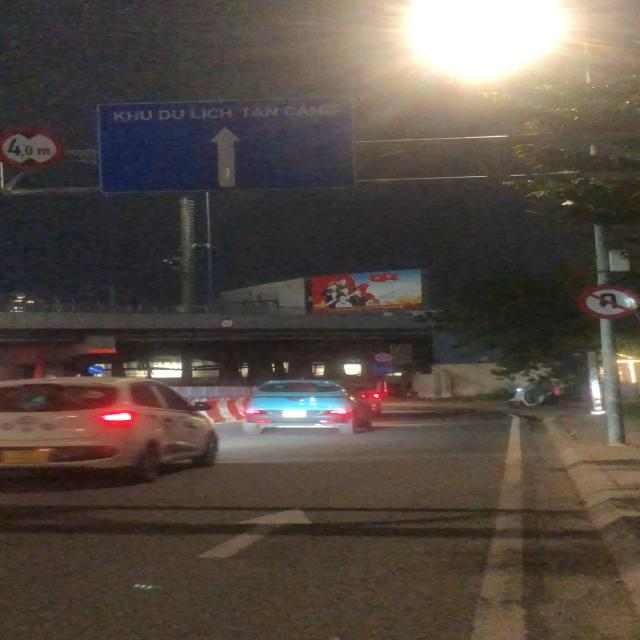Bien bao cam quay dau xe: (574, 282, 637, 322)
Bien bao han che chieu cao: (0, 123, 68, 173)
